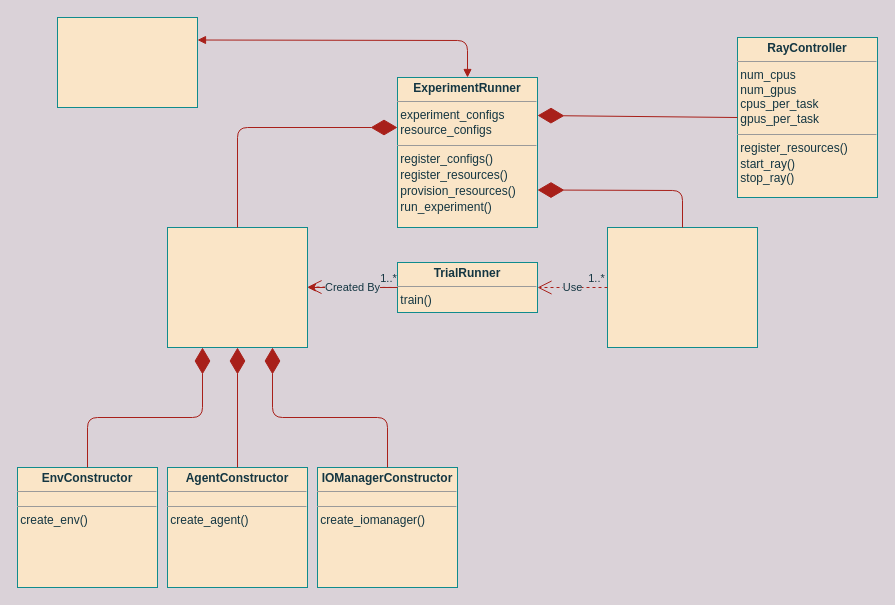
Image size: 895x605. Some labels were removed from this diagram. Each missing label, with the centre of its shape:
ConfigGenerator experiment_spec generate_configs(): (127,62)
TrialConstructor experiment_configs register_configs() create_trials(): (237,287)
TrialCoordinator trials gather_trials() check_io_conflicts() launch_trials(): (682,287)
